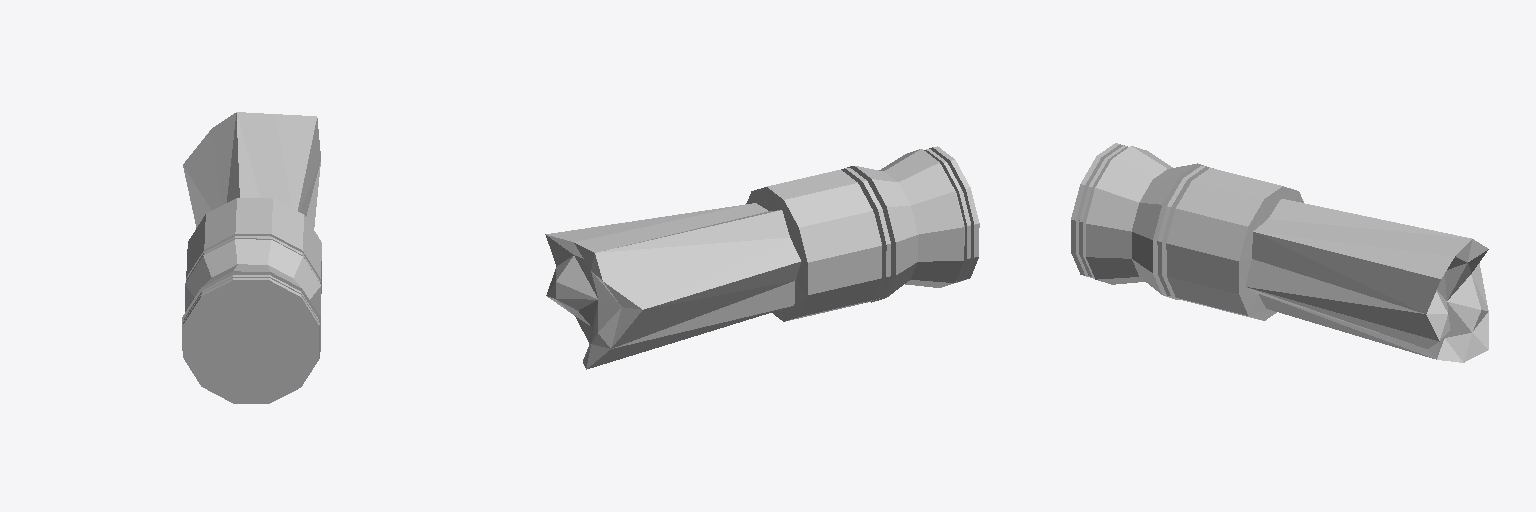
The model's file is piliersol5.obj.
The picture shows the model from 3 angles: view 1: azimuth 30°, elevation 25°; view 2: azimuth 150°, elevation 25°; view 3: azimuth 270°, elevation 25°; orthographic projection.
Bounding box in the file's own units: 0.6751 × 0.2851 × 0.86.